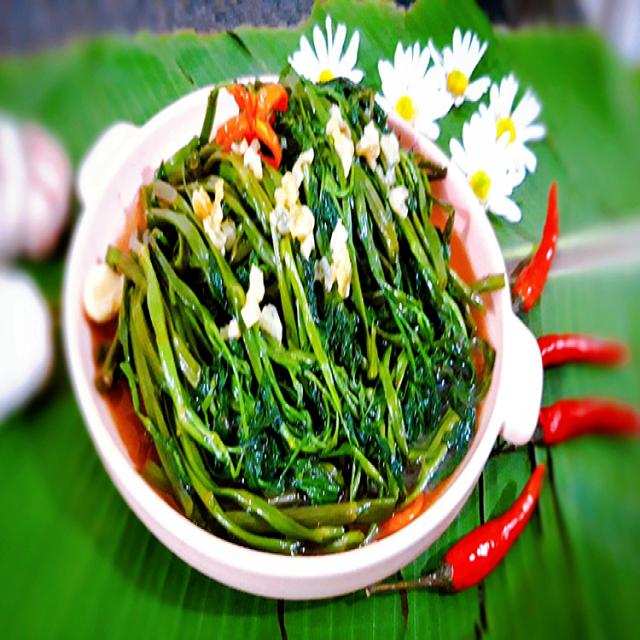rau muong: (97, 78, 503, 553)
